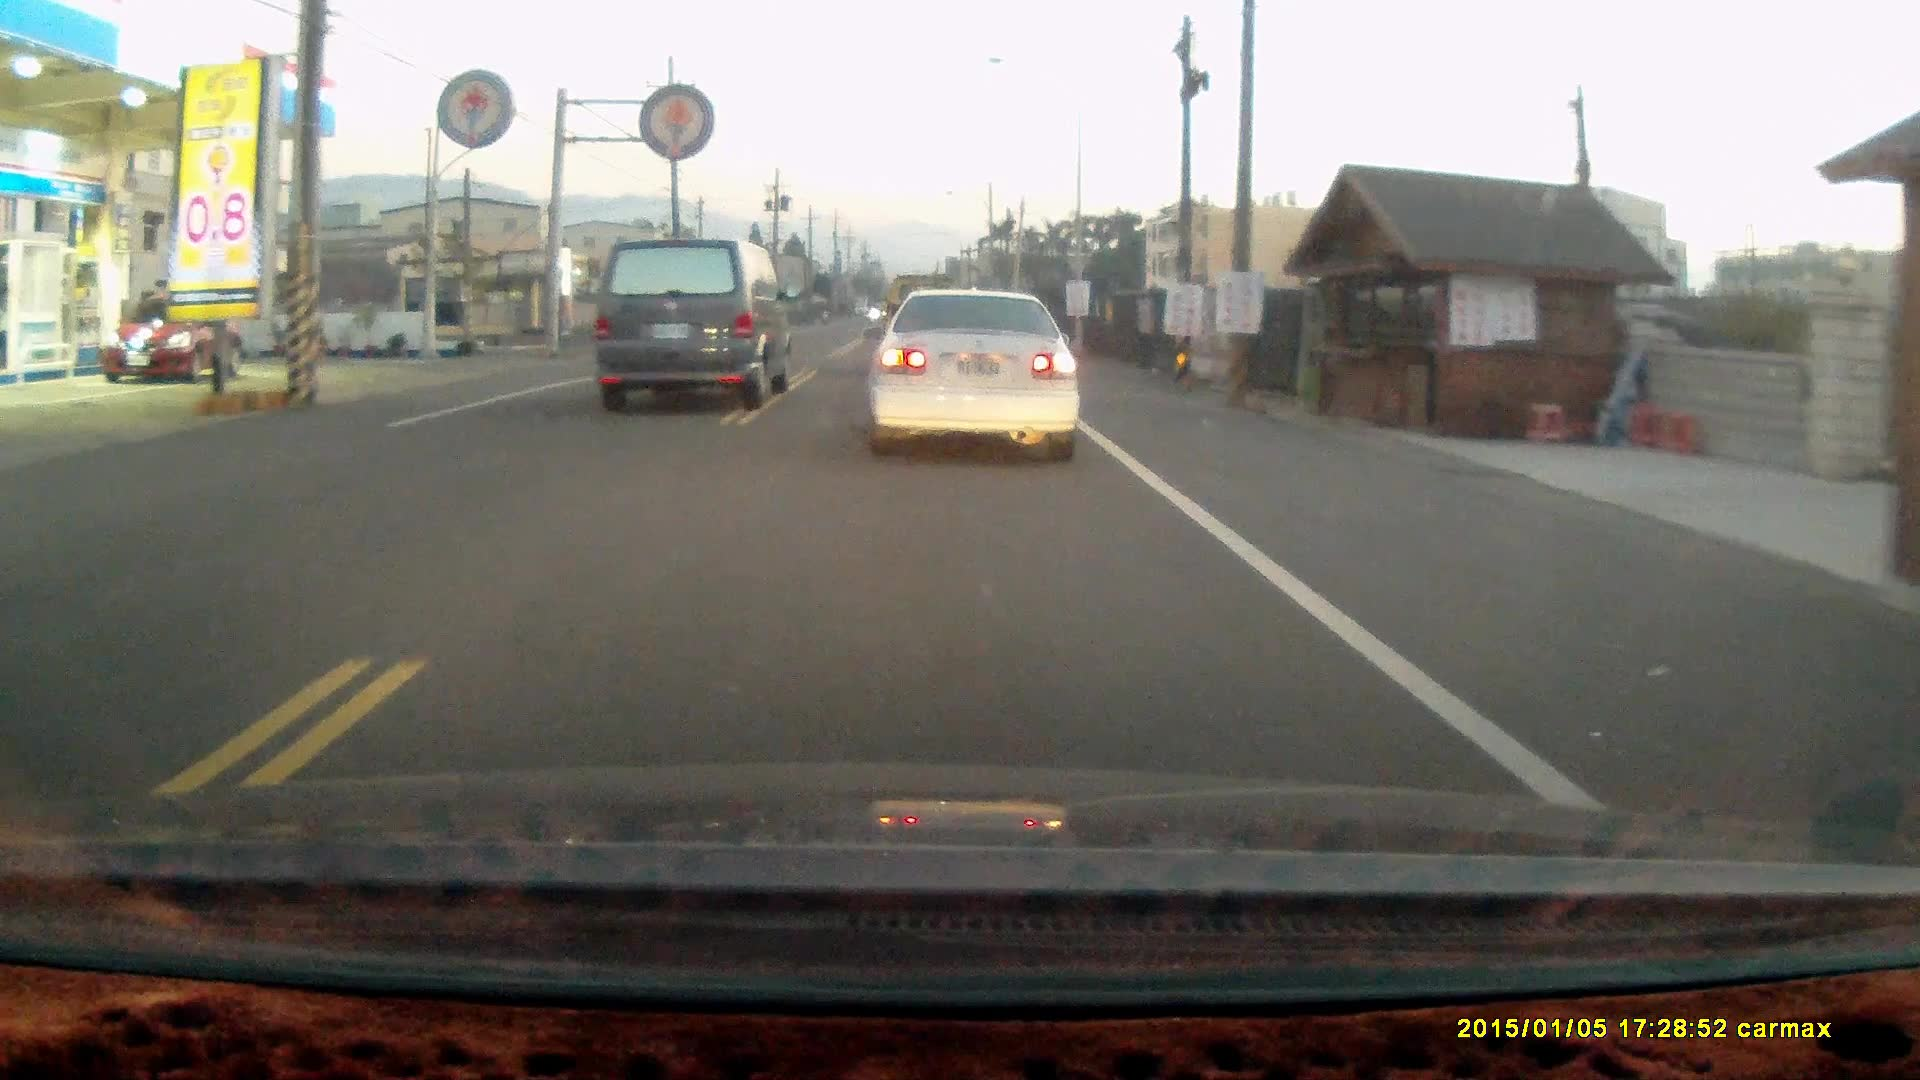vehicle: (862, 284, 1091, 465), (592, 237, 793, 407), (107, 293, 247, 389)
